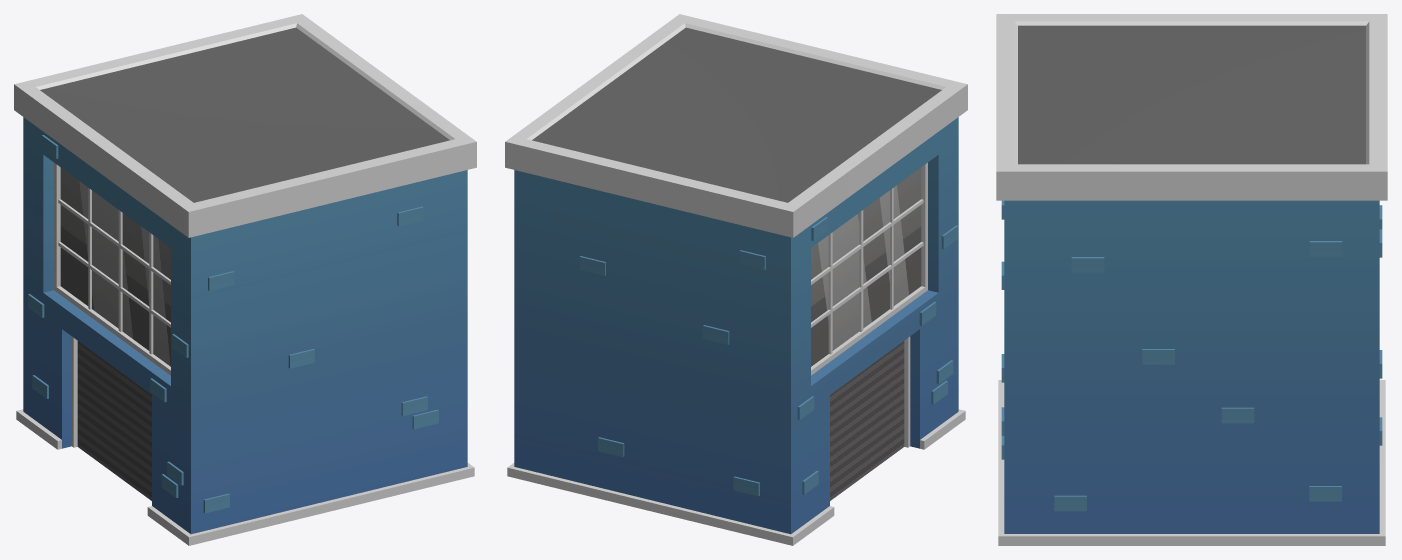
The model's file is Building_10_H.fbx.
The picture shows the model from 3 angles, left to right: view 1: azimuth 30°, elevation 25°; view 2: azimuth 150°, elevation 25°; view 3: azimuth 270°, elevation 25°; orthographic projection. The views are drawn at different scales.
Parts seen in each view (by area): view 1: Building_10_H; view 2: Building_10_H; view 3: Building_10_H.
Boxes of the visible parts, x1=… form: Building_10_H: x1=14, y1=14, x2=476, y2=545; Building_10_H: x1=505, y1=14, x2=967, y2=545; Building_10_H: x1=996, y1=14, x2=1387, y2=545.
Bounding box in the file's own units: 526 × 584 × 552.
